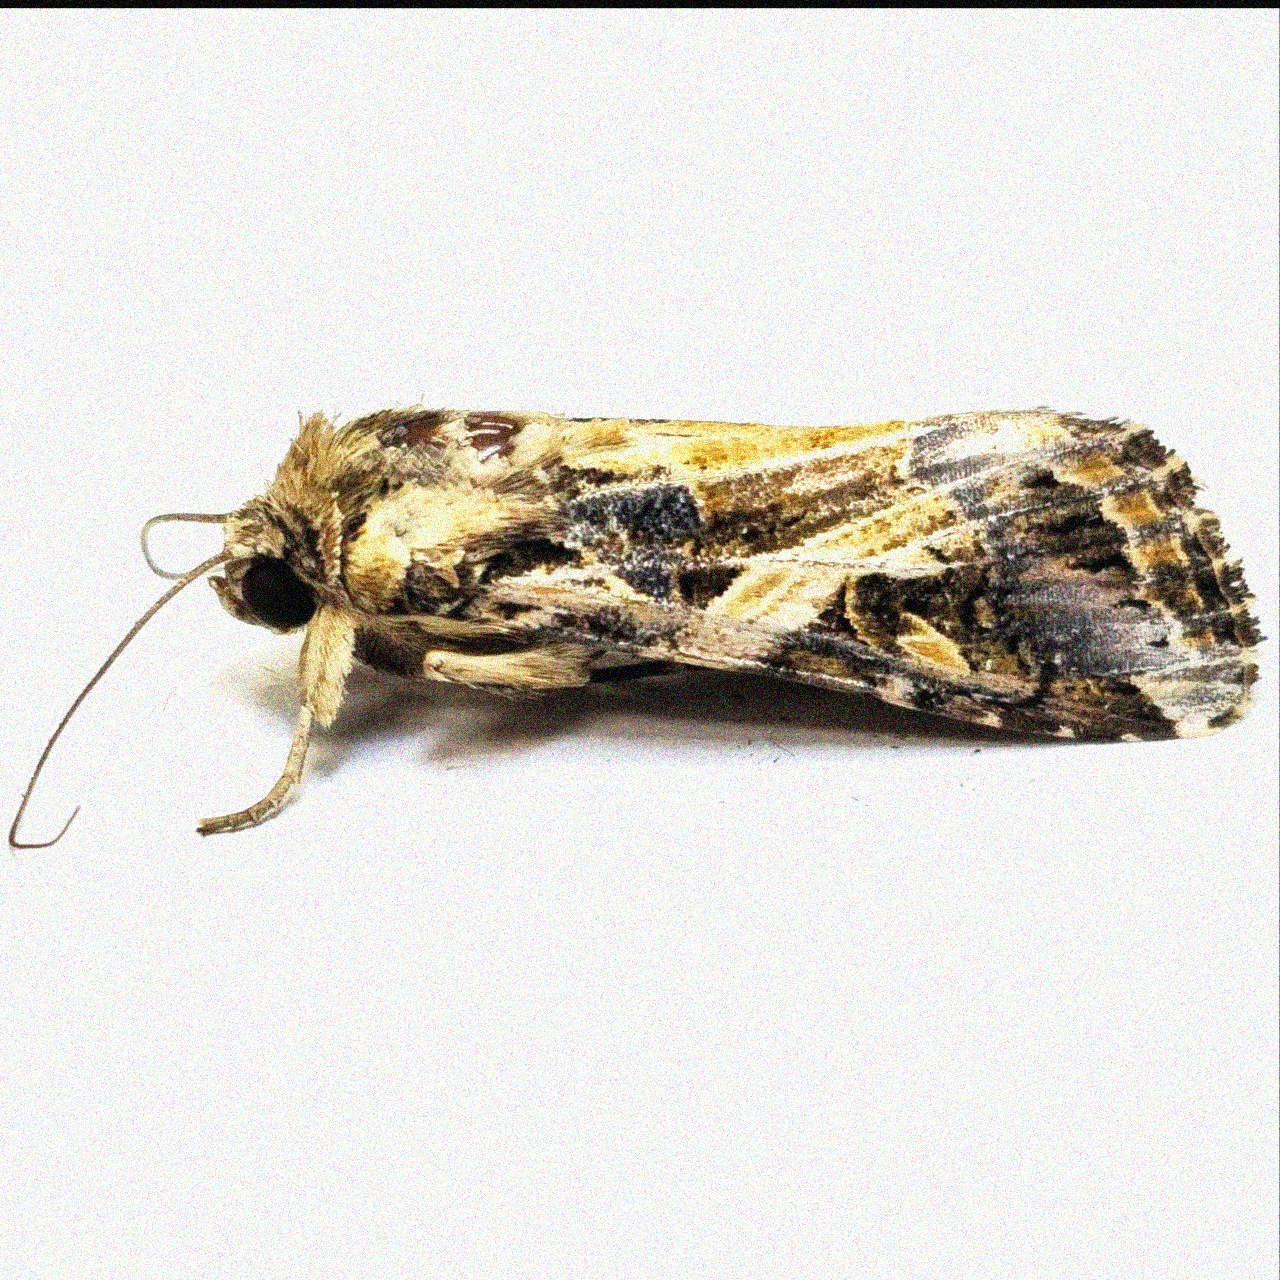Spodoptera litura: (8, 389, 1269, 852)
